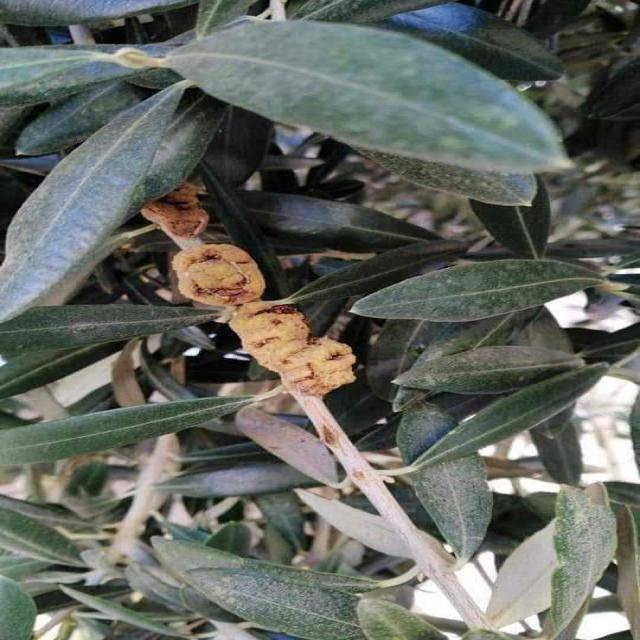Healthy: (0, 83, 187, 322), (0, 396, 254, 465)
Tuberculosis: (229, 301, 356, 397), (171, 243, 263, 309), (140, 183, 209, 245)
